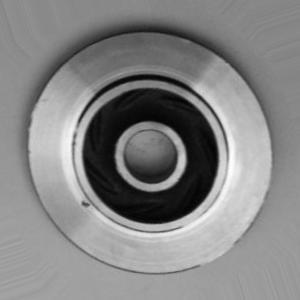defect: (74, 186, 97, 219)
